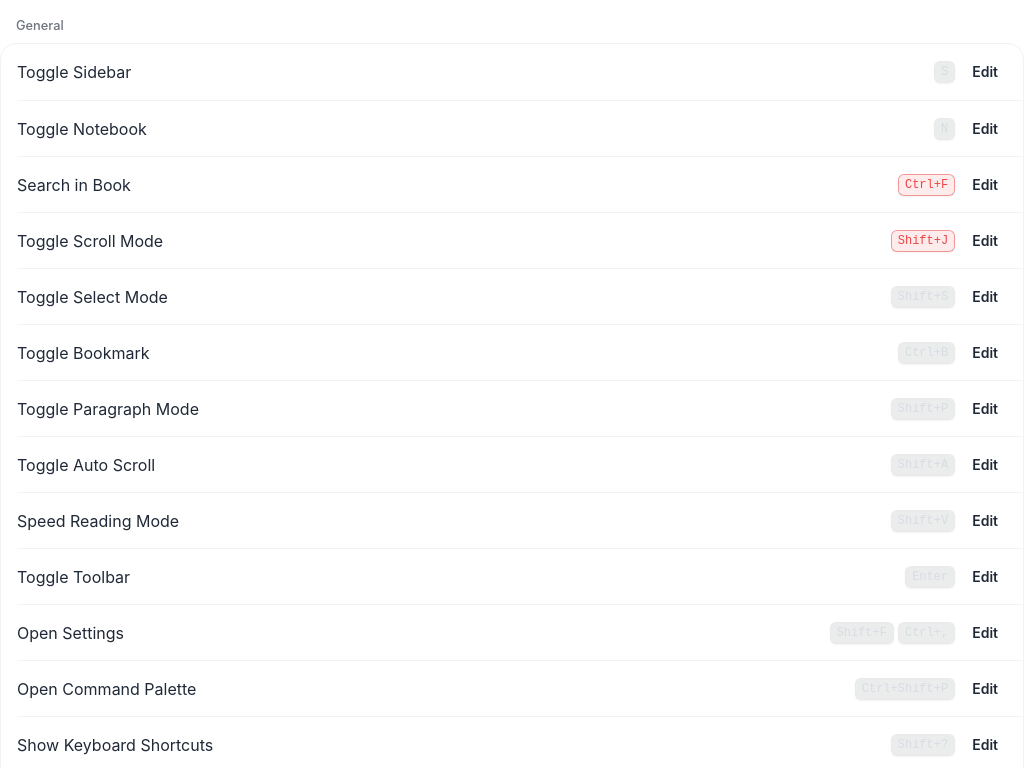
it: KeyboardShortcutsPanel › shows a conflict and does not save when the key is taken
The width and height of the screenshot is (1024, 768).
Click the button "Edit" in the row of "Toggle Sidebar": (985, 72) [963,56,1007,88]
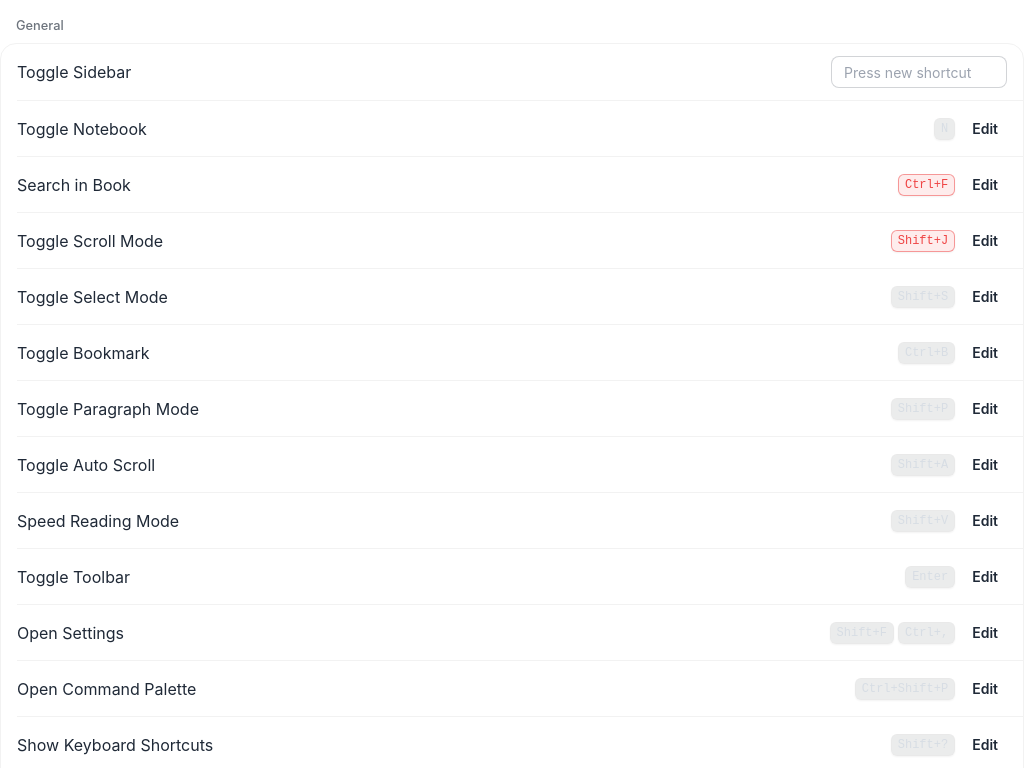
Press f in the field with placeholder "Press new shortcut", box [831,56,1007,88]
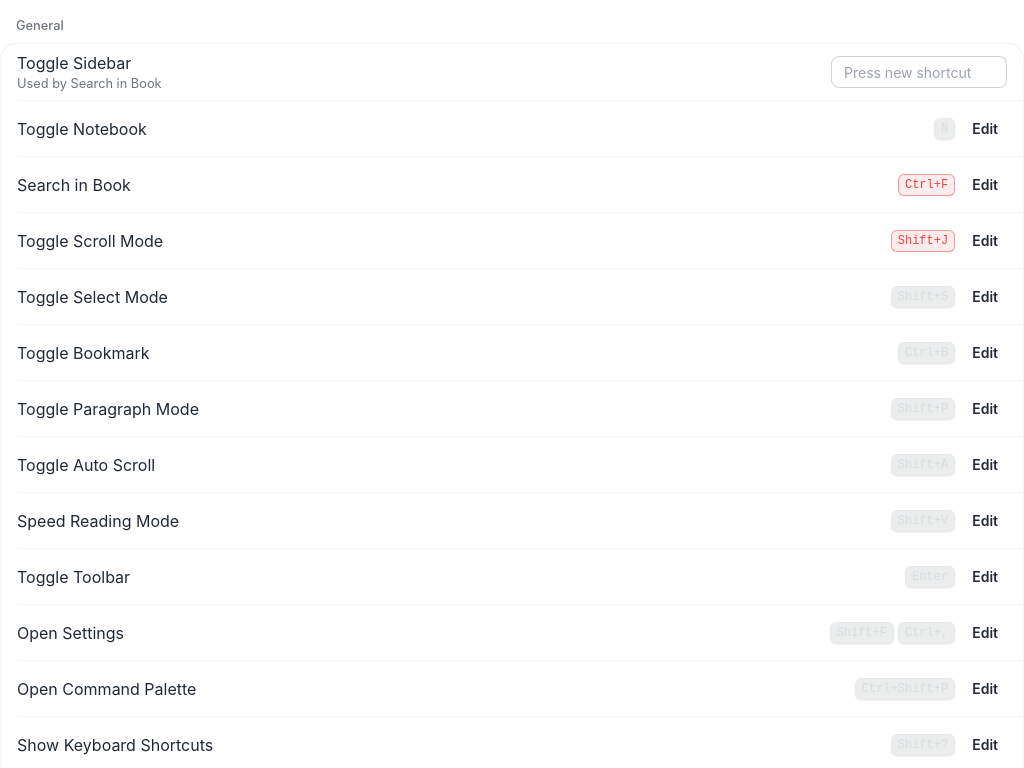
Check: the field with placeholder "Press new shortcut" is shown, box [831,56,1007,88]
Check: the text "Used by Search in Book" is shown, box [17,75,162,93]
